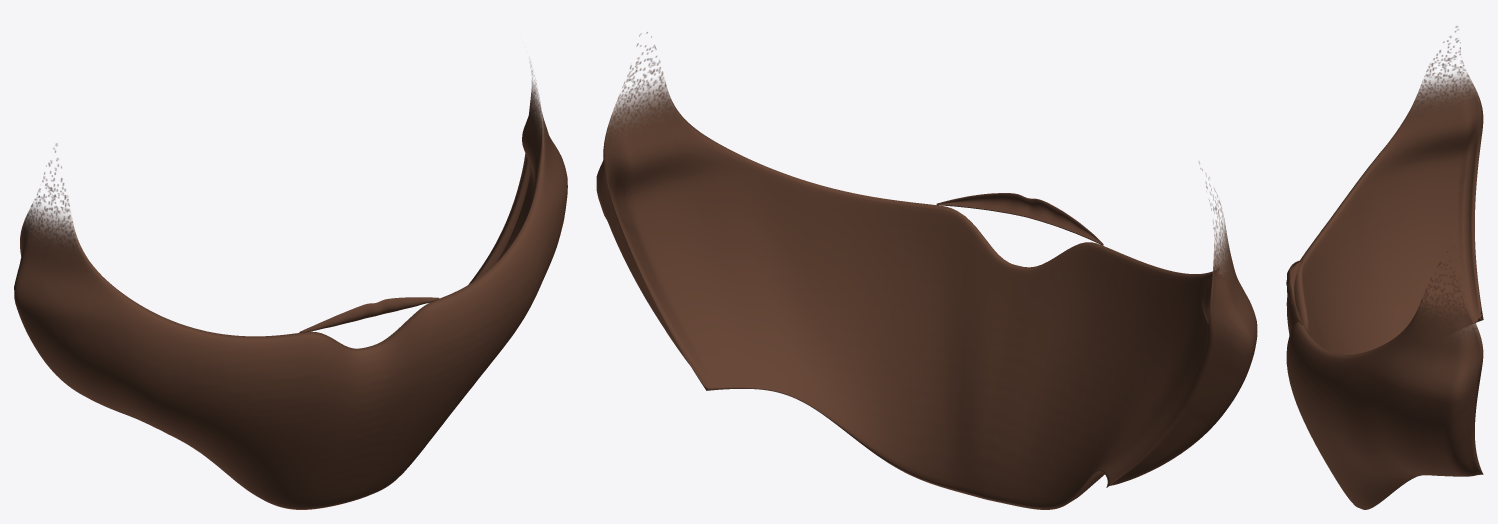
File: Masculine-groom-long.glb
The picture shows the model from 3 angles, left to right: view 1: azimuth 30°, elevation 25°; view 2: azimuth 150°, elevation 25°; view 3: azimuth 270°, elevation 25°; orthographic projection. The views are drawn at different scales.
Parts seen in each view (by area): view 1: Groom / long body184, Groom / shared mustache184; view 2: Groom / long body184, Groom / shared mustache184; view 3: Groom / long body184, Groom / shared mustache184.
Part boxes in pixels (x1,y1,x2,y2): Groom / long body184: (14, 61, 567, 509); Groom / shared mustache184: (299, 297, 439, 332); Groom / long body184: (596, 32, 1257, 509); Groom / shared mustache184: (936, 193, 1103, 245); Groom / long body184: (1286, 26, 1483, 509); Groom / shared mustache184: (1286, 260, 1302, 325).
Size of the model in its own units: 1.02 by 0.7021 by 0.3368.
2 materials, 1 textured.
